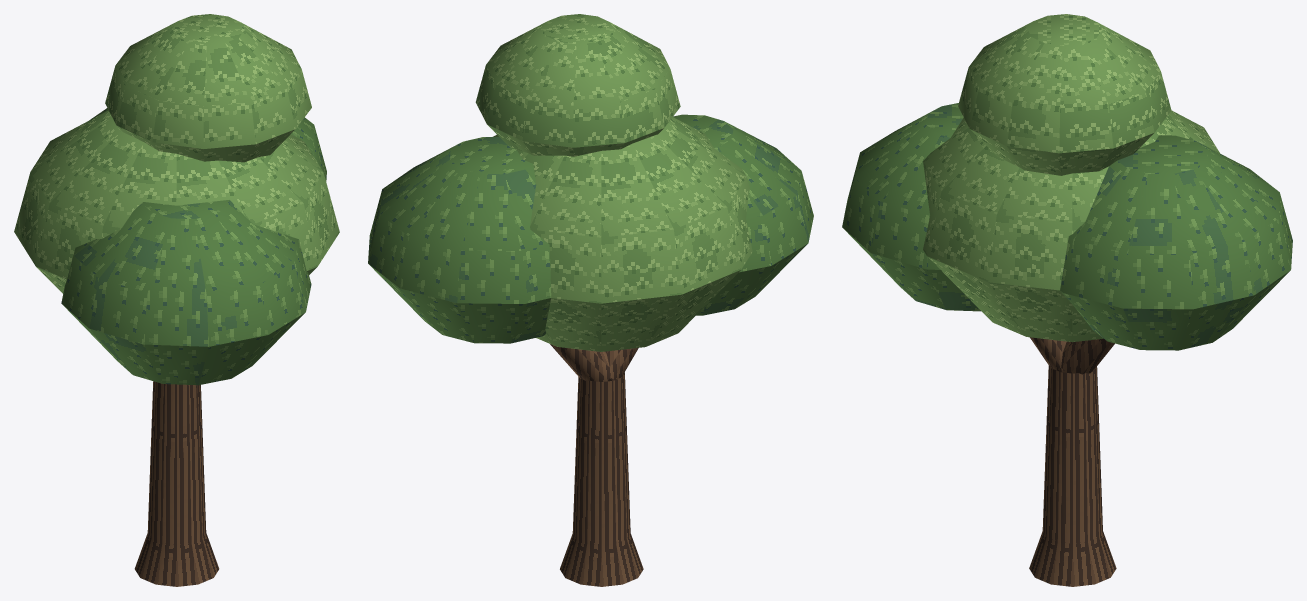
File: oak_7.glb
3 views of the same model, side by side, from view 1: azimuth 30°, elevation 25°; view 2: azimuth 150°, elevation 25°; view 3: azimuth 270°, elevation 25° (orthographic). The views are drawn at different scales.
Visible parts, largest first — view 1: oak_8; view 2: oak_8; view 3: oak_8.
Boxes of the visible parts, x1,y1,x2,y2 form: oak_8: (14, 14, 339, 586); oak_8: (368, 14, 813, 586); oak_8: (842, 14, 1292, 586).
Bounding box in the file's own units: 2.79 × 4.41 × 3.26.
Materials: 3 (3 with a texture image).
